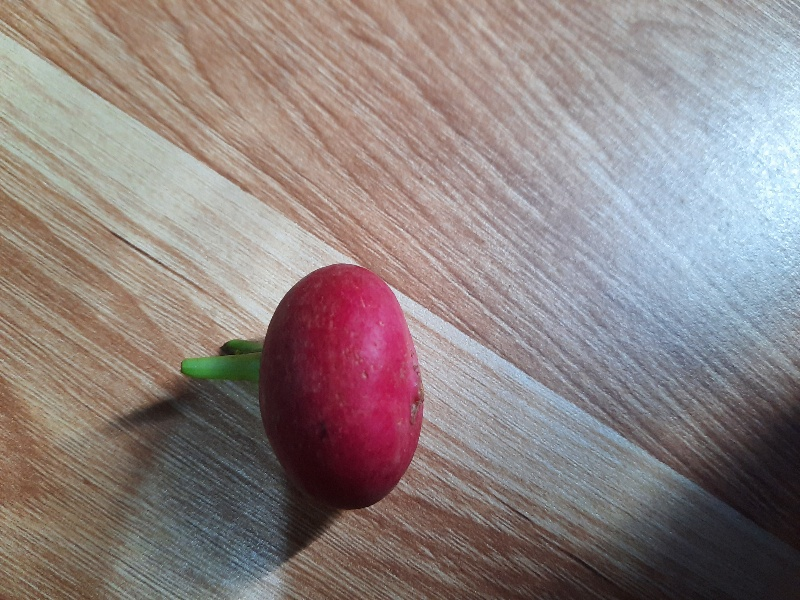vege: (165, 252, 428, 524)
